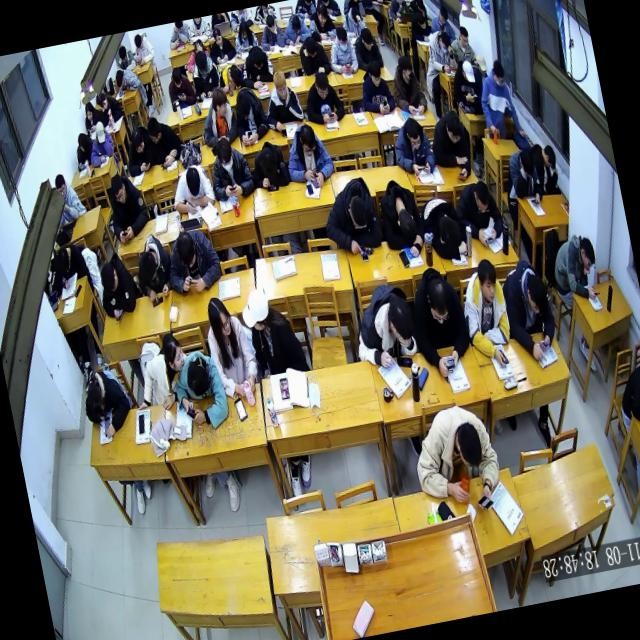bow: (498, 254, 562, 368), (126, 330, 194, 412), (318, 174, 384, 258), (169, 344, 232, 432), (375, 175, 428, 262), (160, 223, 224, 295), (77, 364, 134, 440), (452, 175, 506, 247), (204, 134, 257, 203), (417, 192, 468, 262), (94, 252, 144, 322), (130, 231, 176, 303), (166, 158, 216, 214), (246, 135, 292, 191), (229, 85, 271, 146), (144, 112, 188, 170), (506, 146, 544, 210), (237, 42, 276, 92), (121, 126, 156, 178), (296, 33, 332, 80), (425, 28, 458, 76), (279, 9, 312, 46), (96, 86, 125, 126), (70, 130, 97, 170), (214, 59, 246, 92), (407, 10, 433, 45), (114, 62, 142, 90), (112, 40, 136, 72), (406, 0, 428, 22)
down: (452, 420, 486, 470), (384, 292, 415, 341), (424, 276, 453, 324), (524, 270, 550, 316), (184, 359, 212, 398), (346, 192, 370, 229), (175, 232, 198, 270), (214, 138, 237, 172), (138, 250, 160, 284), (297, 121, 318, 156), (442, 109, 463, 144), (578, 236, 598, 272), (472, 178, 492, 212), (85, 382, 105, 414), (404, 118, 422, 152), (491, 58, 510, 90), (100, 262, 120, 292), (184, 165, 203, 196), (110, 174, 128, 206), (518, 146, 536, 177), (234, 88, 252, 118), (313, 72, 331, 101), (272, 71, 289, 101), (258, 148, 276, 175), (541, 143, 558, 171), (366, 61, 383, 88), (56, 246, 72, 274), (249, 46, 265, 71), (130, 127, 146, 152), (460, 60, 476, 84), (474, 52, 489, 77), (438, 28, 452, 54), (92, 118, 107, 142), (194, 50, 209, 74), (226, 62, 242, 84), (336, 27, 350, 52), (360, 26, 374, 50), (304, 36, 318, 58), (458, 24, 471, 46), (316, 2, 328, 25), (95, 89, 108, 110), (170, 65, 183, 86), (75, 132, 88, 152), (210, 24, 222, 45), (265, 13, 277, 34), (291, 15, 303, 35), (350, 5, 362, 25), (116, 43, 128, 62), (114, 68, 125, 88), (436, 6, 448, 24), (84, 100, 94, 121), (238, 20, 248, 38), (133, 32, 143, 49), (416, 12, 426, 28), (415, 0, 425, 11), (77, 160, 86, 170), (395, 0, 406, 6)
lookup: (476, 258, 500, 304), (54, 173, 68, 200)
sit: (406, 399, 506, 521), (404, 262, 475, 378), (455, 256, 518, 372), (238, 283, 310, 381), (200, 291, 263, 402), (346, 281, 421, 374), (474, 56, 526, 144), (548, 230, 602, 304), (281, 120, 337, 190), (427, 106, 476, 182), (104, 170, 153, 243), (390, 113, 438, 179), (258, 68, 306, 132), (195, 83, 240, 148), (387, 54, 430, 120), (299, 66, 346, 125), (354, 57, 396, 114), (48, 242, 91, 291), (187, 48, 224, 102), (324, 24, 360, 77), (52, 166, 86, 220), (530, 141, 562, 196), (448, 58, 482, 109), (84, 118, 118, 166), (164, 64, 198, 112), (351, 24, 384, 72), (305, 1, 337, 43), (205, 22, 238, 62), (448, 23, 477, 66), (256, 12, 286, 52), (427, 4, 456, 44), (339, 6, 368, 41), (231, 18, 259, 54), (130, 31, 156, 68), (80, 99, 104, 133), (385, 0, 411, 25)
